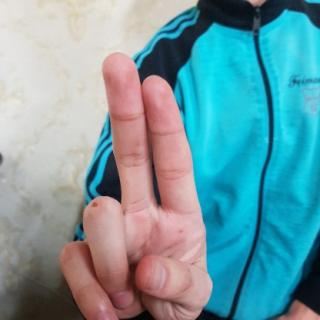TA: (57, 50, 217, 320)
